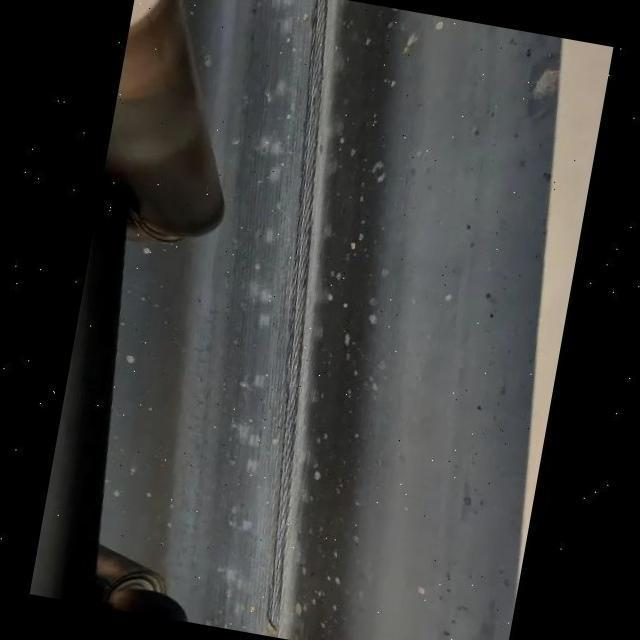Wear: (251, 0, 351, 640)
